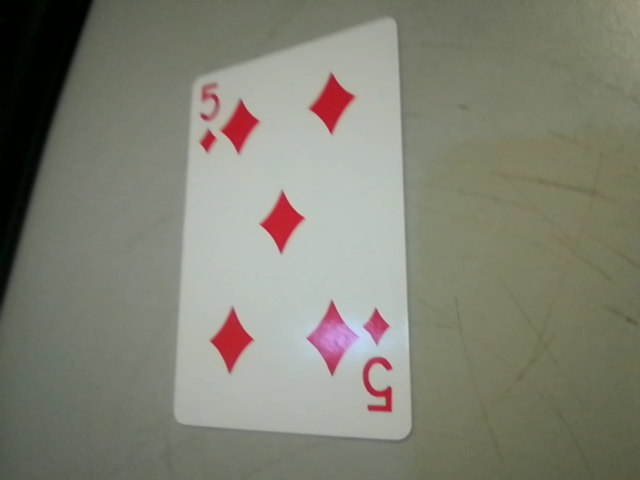fk 5: (349, 300, 406, 422)
